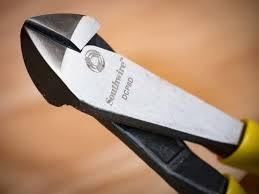pliers: (19, 12, 258, 193)
